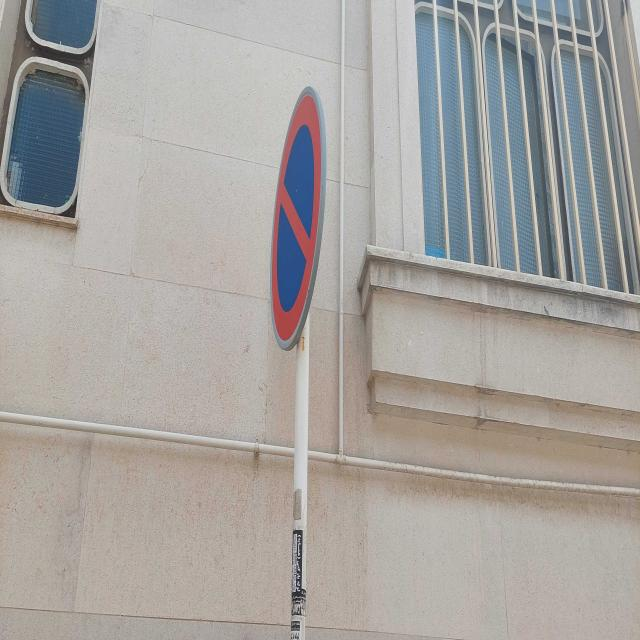forb_stopping: (269, 82, 328, 355)
